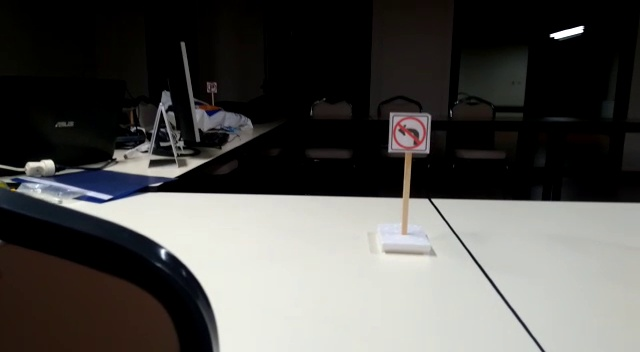sola_donulmez: (388, 113, 428, 153)
